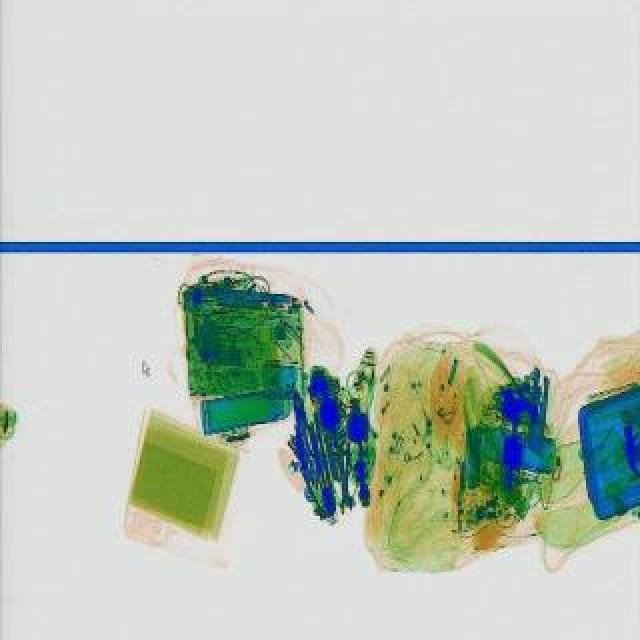wrench: (282, 384, 326, 470)
